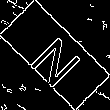N_NE: (23, 23, 87, 87)
